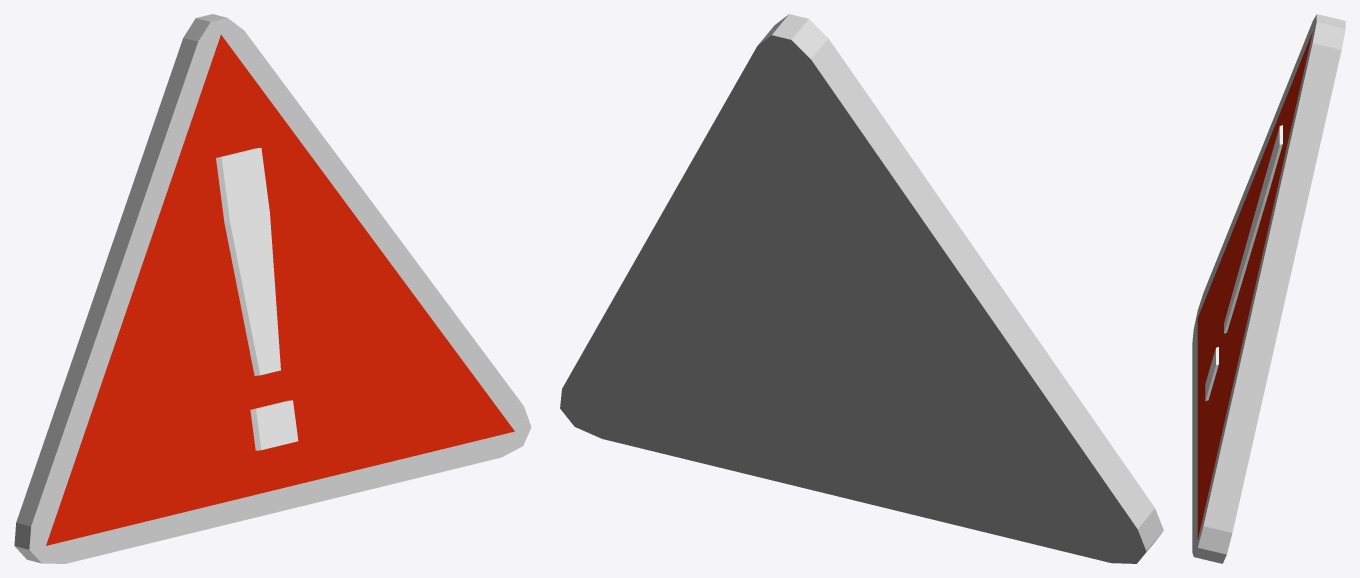
Rendered from 4st boss attack.fbx.
The picture shows the model from 3 angles, left to right: view 1: azimuth 30°, elevation 25°; view 2: azimuth 150°, elevation 25°; view 3: azimuth 270°, elevation 25°; orthographic projection. The views are drawn at different scales.
Parts seen in each view (by area): view 1: Text; view 2: Text; view 3: Text.
Boxes of the visible parts, bbox=[...] form: Text: bbox=[14, 14, 531, 563]; Text: bbox=[560, 14, 1163, 563]; Text: bbox=[1192, 14, 1345, 563].
Size of the model in its own units: 101 by 86.36 by 27.5.
